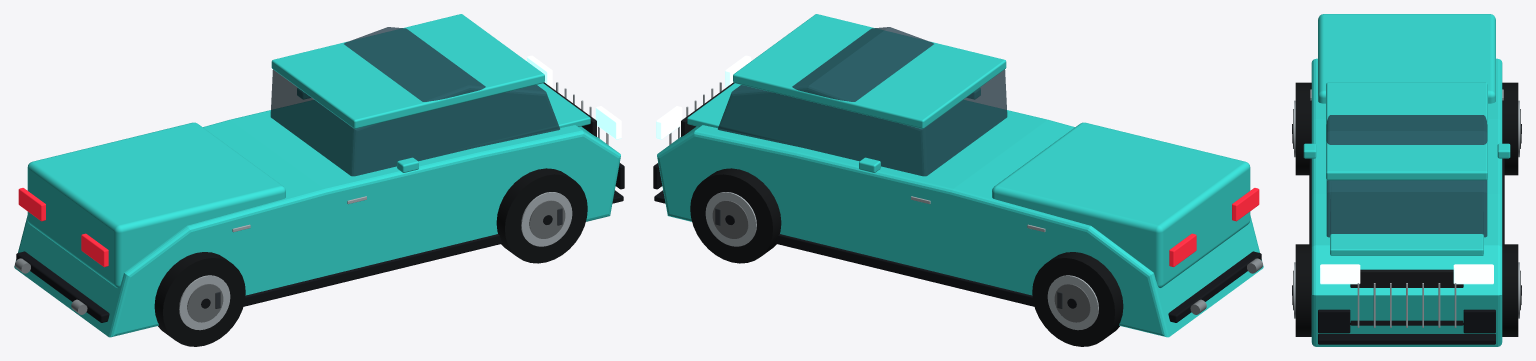
The model's file is ford_f_750.glb.
3 views of the same model, side by side, from view 1: azimuth 30°, elevation 25°; view 2: azimuth 150°, elevation 25°; view 3: azimuth 270°, elevation 25° (orthographic). The views are drawn at different scales.
Parts seen in each view (by area): view 1: sculpted_body, pickup_bed, cab, cab_roof, hood_center, rear_right_wheel_tire, front_right_wheel_tire, side_skirt_1, rear_diffuser, rear_right_wheel_rim, front_right_wheel_rim, rear_right_wheel_disc (+4 smaller); view 2: sculpted_body, pickup_bed, cab, cab_roof, hood_center, rear_left_wheel_tire, front_left_wheel_tire, side_skirt_-1, rear_diffuser, rear_left_wheel_rim, front_left_wheel_rim, rear_left_wheel_disc (+4 smaller); view 3: cab_roof, sculpted_body, cab, pickup_bed, hood_center, front_grille, front_splitter, front_left_wheel_tire, front_right_wheel_tire, rear_left_wheel_tire, rear_right_wheel_tire, headlight_left (+7 smaller).
Part boxes in pixels (bbox=[...]): sculpted_body: bbox=[14, 100, 620, 337]; pickup_bed: bbox=[27, 122, 285, 287]; cab: bbox=[270, 27, 559, 176]; cab_roof: bbox=[271, 14, 544, 128]; hood_center: bbox=[399, 83, 590, 151]; rear_right_wheel_tire: bbox=[154, 252, 245, 346]; front_right_wheel_tire: bbox=[496, 168, 587, 263]; side_skirt_1: bbox=[243, 234, 502, 306]; rear_diffuser: bbox=[16, 251, 109, 322]; rear_right_wheel_rim: bbox=[179, 275, 230, 330]; front_right_wheel_rim: bbox=[521, 192, 572, 246]; rear_right_wheel_disc: bbox=[187, 284, 223, 322]; sculpted_body: bbox=[657, 100, 1263, 337]; pickup_bed: bbox=[992, 122, 1250, 287]; cab: bbox=[718, 27, 1007, 176]; cab_roof: bbox=[733, 14, 1006, 128]; hood_center: bbox=[687, 83, 878, 151]; rear_left_wheel_tire: bbox=[1032, 252, 1123, 346]; front_left_wheel_tire: bbox=[690, 168, 781, 263]; side_skirt_-1: bbox=[775, 234, 1034, 306]; rear_diffuser: bbox=[1168, 251, 1261, 322]; rear_left_wheel_rim: bbox=[1047, 275, 1098, 330]; front_left_wheel_rim: bbox=[705, 192, 756, 246]; rear_left_wheel_disc: bbox=[1054, 284, 1090, 322]; cab_roof: bbox=[1326, 82, 1487, 180]; sculpted_body: bbox=[1311, 58, 1502, 346]; cab: bbox=[1326, 115, 1487, 237]; pickup_bed: bbox=[1318, 14, 1495, 103]; hood_center: bbox=[1330, 181, 1483, 255]; front_grille: bbox=[1350, 269, 1463, 325]; front_splitter: bbox=[1318, 334, 1495, 344]; front_left_wheel_tire: bbox=[1502, 244, 1518, 336]; front_right_wheel_tire: bbox=[1295, 244, 1311, 336]; rear_left_wheel_tire: bbox=[1502, 82, 1518, 175]; rear_right_wheel_tire: bbox=[1295, 82, 1311, 175]; headlight_left: bbox=[1453, 264, 1493, 284].
Bounding box in the file's own units: 6.08 × 1.94 × 2.33.
